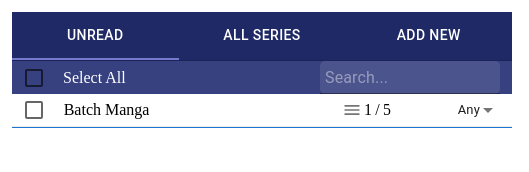
UserMangaList › exposes batch actions once an item is checked
The width and height of the screenshot is (529, 172).
Click the tab "All series" at (262, 36), box [179, 12, 345, 60]
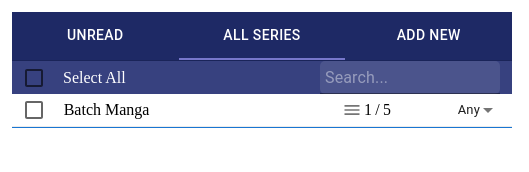
Click the 2nd button at (34, 110), box [24, 98, 44, 122]
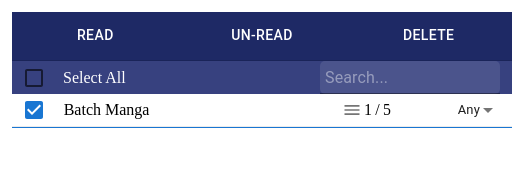
Expected: the tab "read" is shown, [12, 12, 179, 60]
Expected: the tab "un-read" is shown, [179, 12, 345, 60]
Expected: the tab "Delete" is shown, [345, 12, 512, 60]
